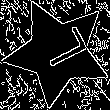L_SW: (28, 27, 88, 77)
